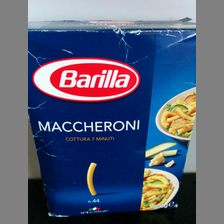pasta: (28, 18, 196, 216)
